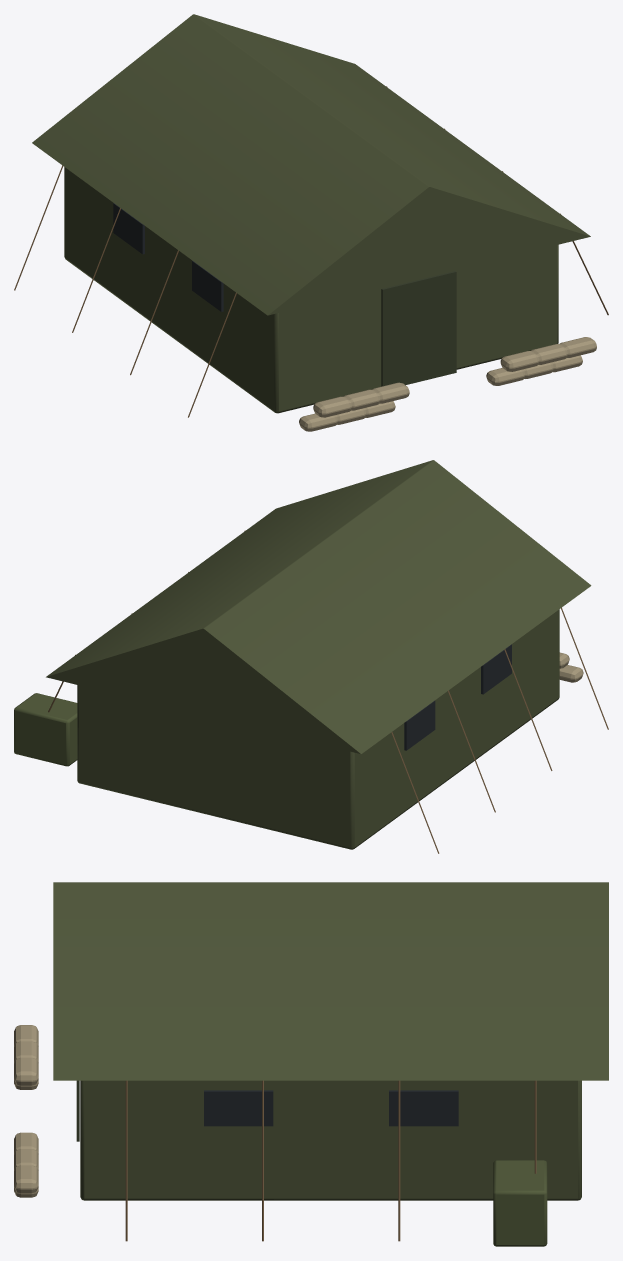
File: Base_Tent.fbx
3 views of the same model, one above another, from view 1: azimuth 30°, elevation 25°; view 2: azimuth 150°, elevation 25°; view 3: azimuth 270°, elevation 25° (orthographic). The views are drawn at different scales.
Visible parts, largest first — view 1: Base_Tent_Mesh; view 2: Base_Tent_Mesh; view 3: Base_Tent_Mesh.
Boxes of the visible parts, x1=… form: Base_Tent_Mesh: x1=14, y1=14, x2=608, y2=431; Base_Tent_Mesh: x1=14, y1=460, x2=608, y2=853; Base_Tent_Mesh: x1=14, y1=882, x2=608, y2=1246.
Bounding box in the file's own units: 7.61 × 3.4 × 7.71.
